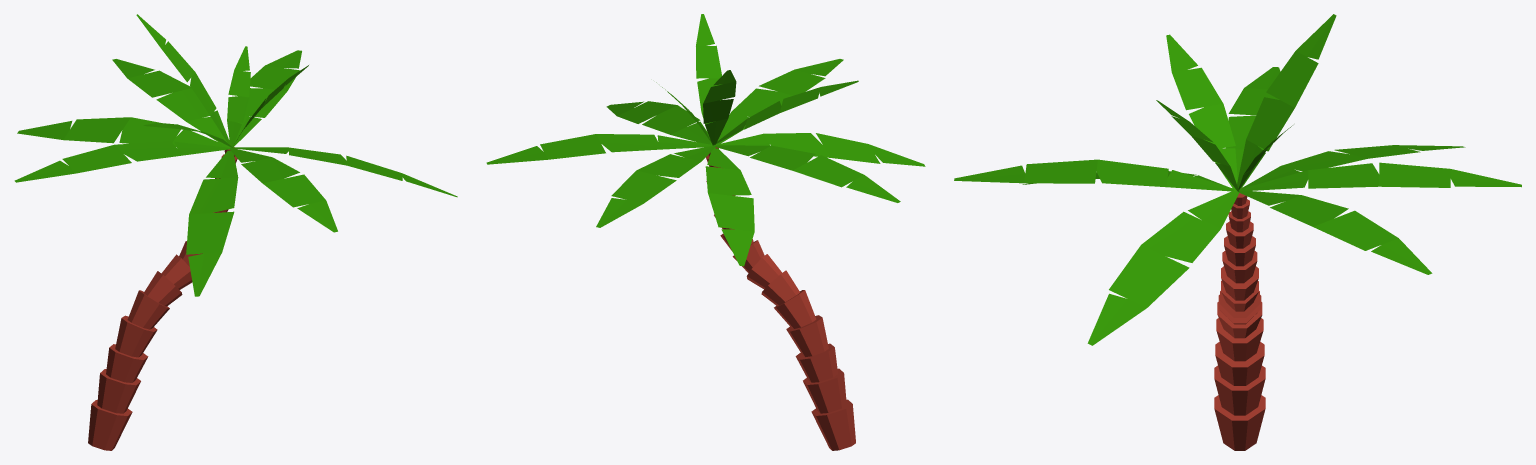
Rendered from palmtree.fbx.
The picture shows the model from 3 angles, left to right: view 1: azimuth 30°, elevation 25°; view 2: azimuth 150°, elevation 25°; view 3: azimuth 270°, elevation 25°; orthographic projection. The views are drawn at different scales.
Visible parts, largest first — view 1: Leaves_Plane.010, trunk_Cube.014; view 2: Leaves_Plane.010, trunk_Cube.014; view 3: Leaves_Plane.010, trunk_Cube.014.
Boxes of the visible parts, x1,y1,x2,y2 form: Leaves_Plane.010: (14, 14, 457, 296); trunk_Cube.014: (88, 147, 237, 450); Leaves_Plane.010: (486, 14, 925, 266); trunk_Cube.014: (706, 147, 855, 450); Leaves_Plane.010: (954, 14, 1521, 345); trunk_Cube.014: (1214, 188, 1265, 450).
Bounding box in the file's own units: 3118 × 3150 × 3419.
